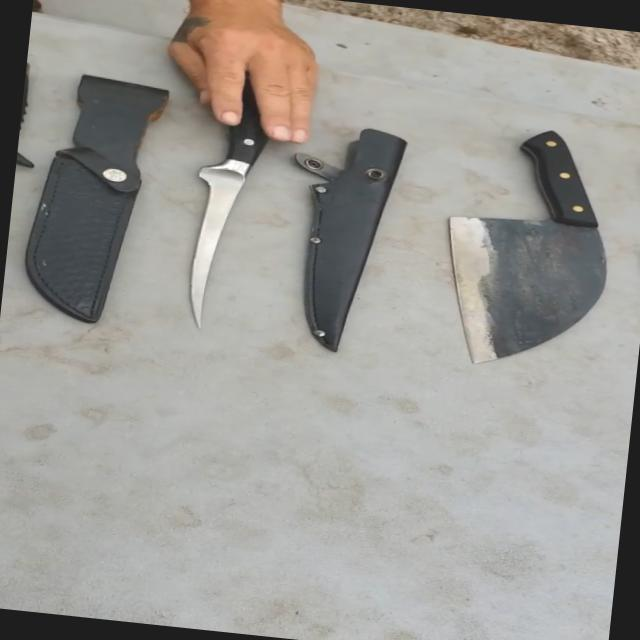knife: (421, 88, 639, 378), (146, 78, 287, 326)
